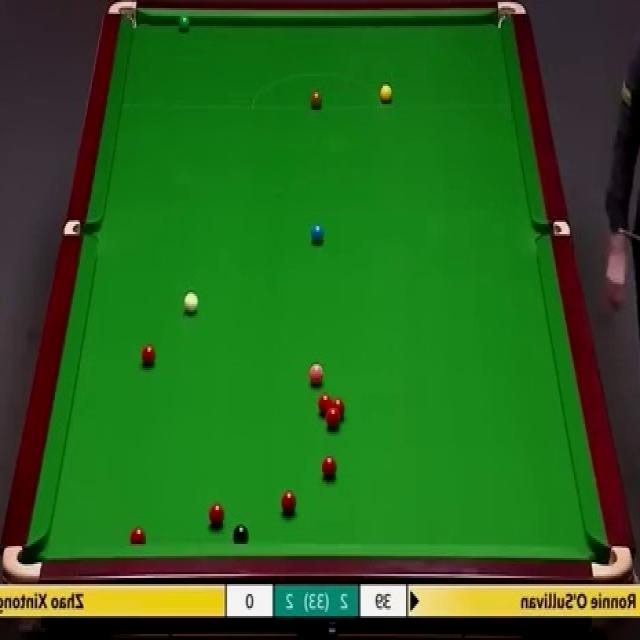black-ball: (232, 523, 250, 541)
blue-ball: (311, 225, 325, 242)
brown-ball: (310, 88, 322, 108)
green-ball: (180, 12, 190, 30)
pink-ball: (310, 362, 322, 386)
red-ball: (319, 454, 337, 480), (208, 504, 225, 530), (282, 486, 296, 514), (142, 344, 156, 369), (332, 398, 346, 422), (318, 393, 331, 418), (324, 411, 340, 430), (130, 526, 148, 541)
white-ball: (183, 291, 199, 316)
yellow-ball: (381, 86, 393, 102)
